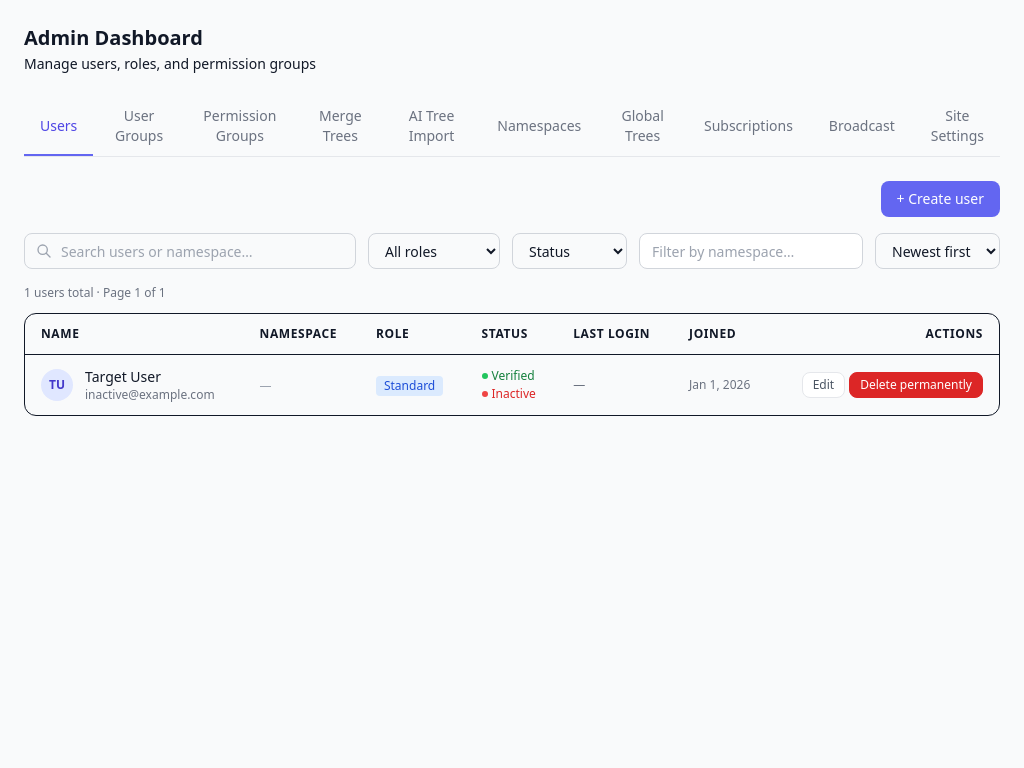
Test: AdminPage — permanently delete user › shows an error and keeps the user listed when the backend rejects the purge (e.g. still active)
Click the button "Delete permanently" at (916,385), box [849, 372, 983, 398]
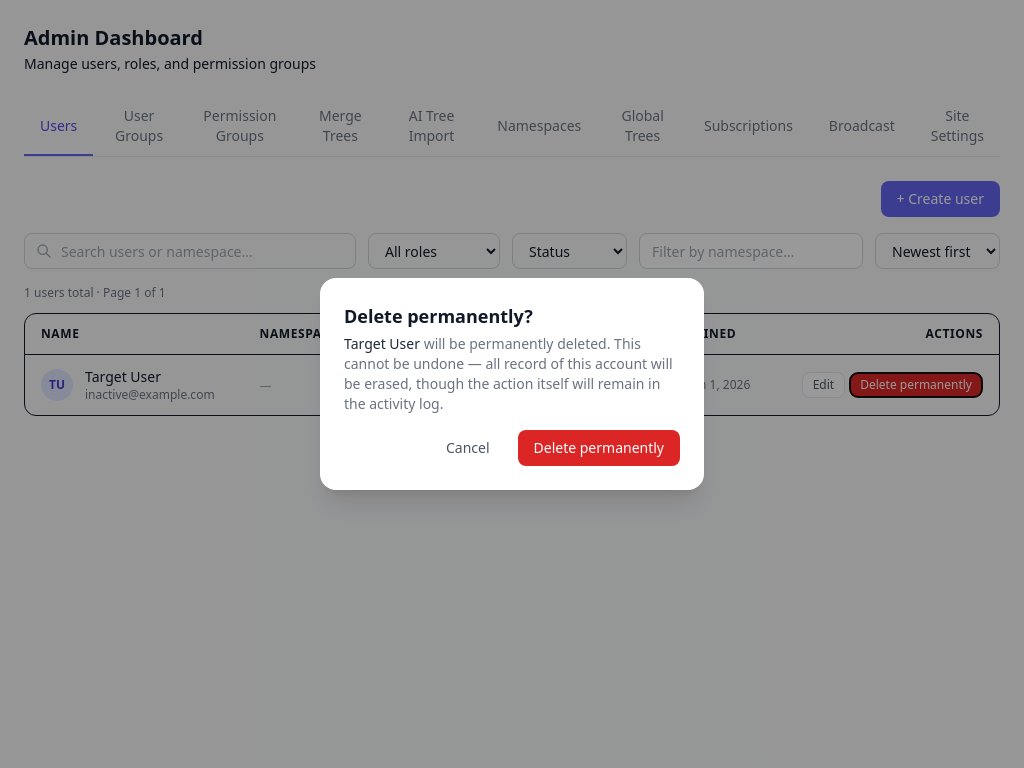
Check: the heading "Delete permanently?" is shown, box [344, 304, 533, 328]
Click the button "Delete permanently" at (599,448), box [518, 430, 680, 466]
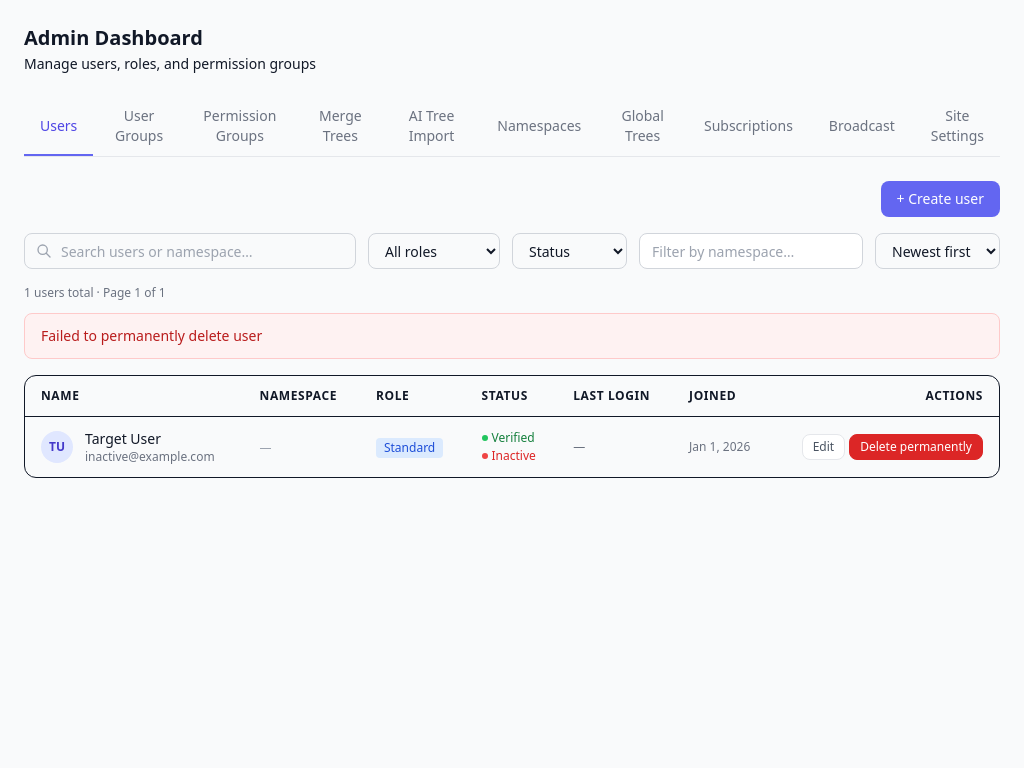
Check: the text "inactive@example.com" is shown, box [85, 449, 215, 465]
Check: the text "Failed to permanently delete user" is shown, box [24, 313, 1000, 359]
